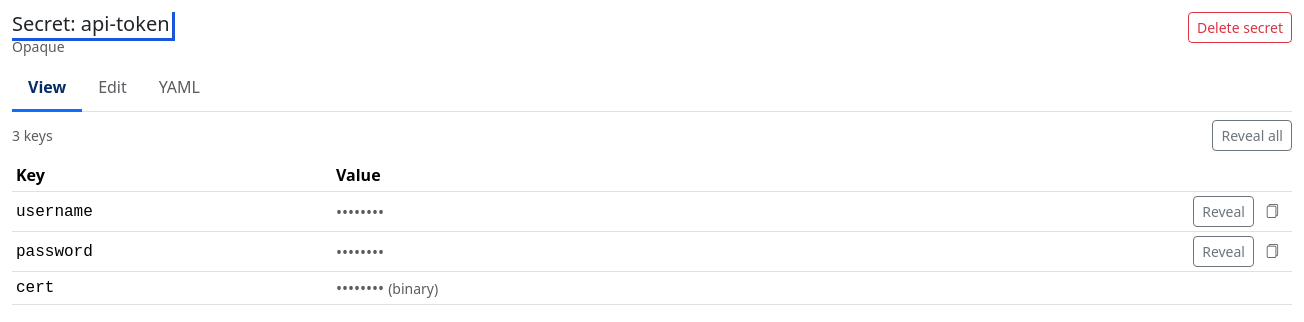
Scenario: SecretDetail — view mode › reveals and hides a single value
What coordinates should you click on to do the following:
click the button "Reveal" in the row of "username"
I would click on:
 (1224, 212)
Its box is [1193,196,1254,227].
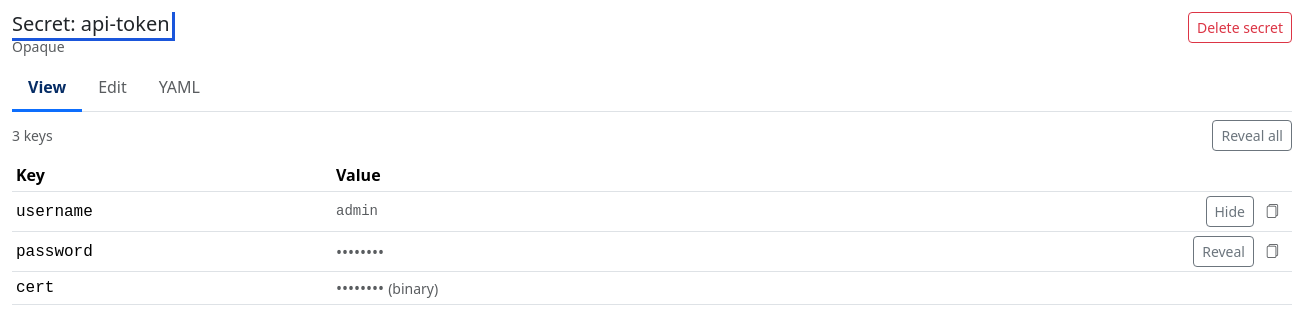
Expected: the button "Hide" is shown, [1206,196,1254,227]
Now the row "username admin Hide" is shown, box [12,192,1292,232]
